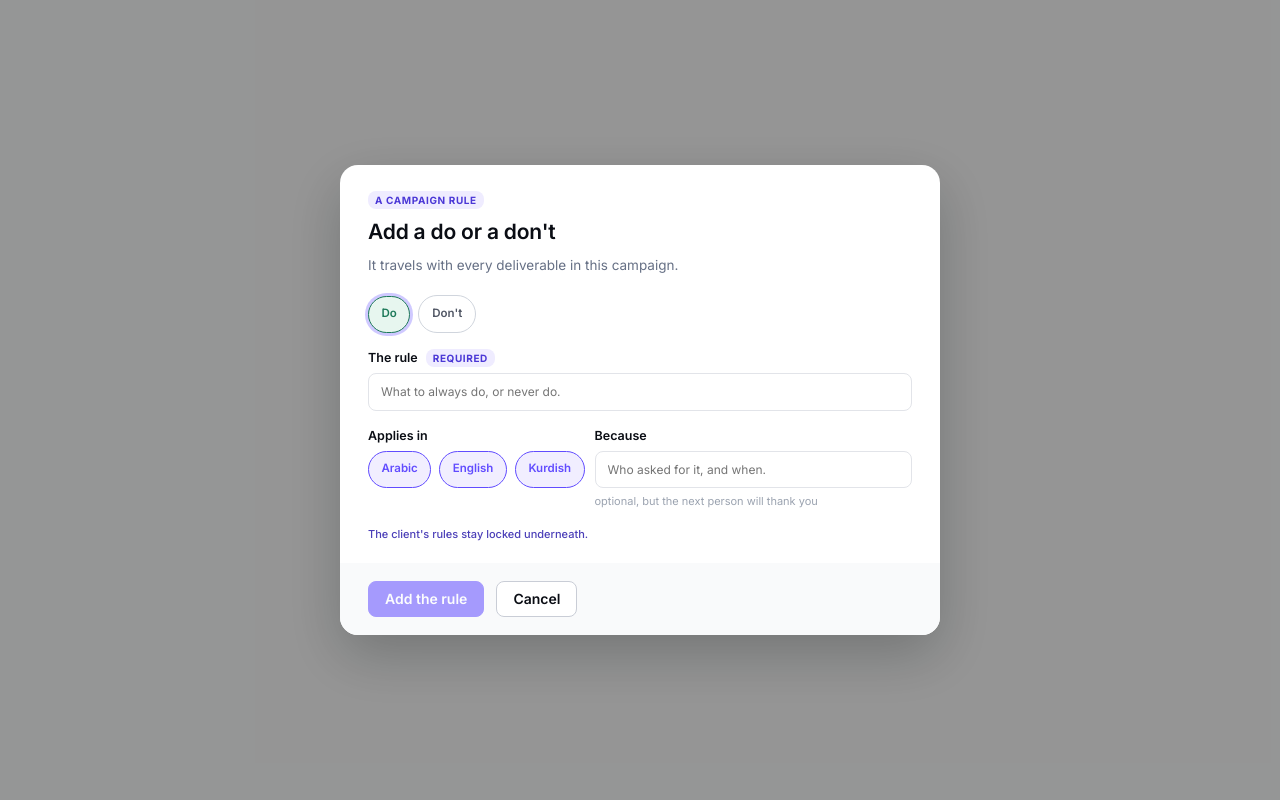
AddRuleDialog › refuses a rule that applies nowhere
Type "Tickets are earned." into the field with test id "add-rule-text" at [640, 392], box [368,374,912,411]
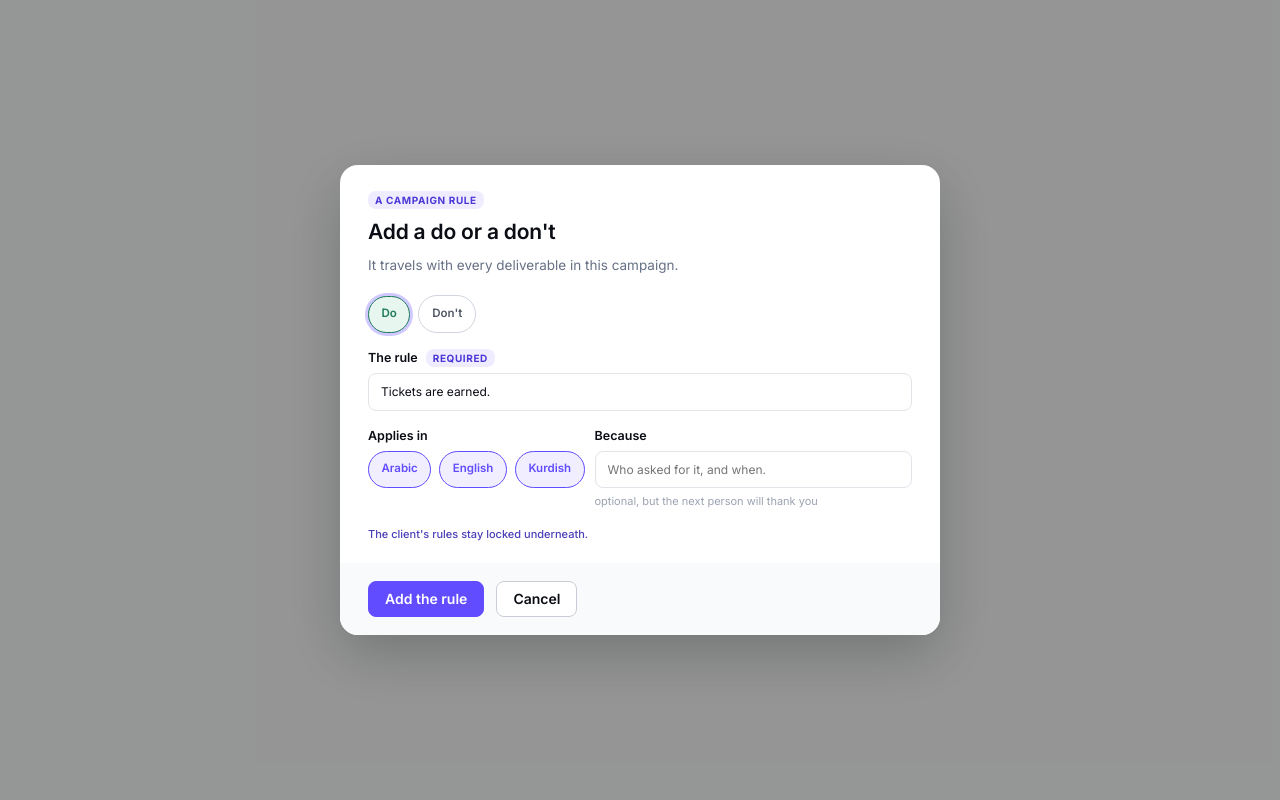
Click the button "Arabic" at [400, 470], box [368,451,431,488]
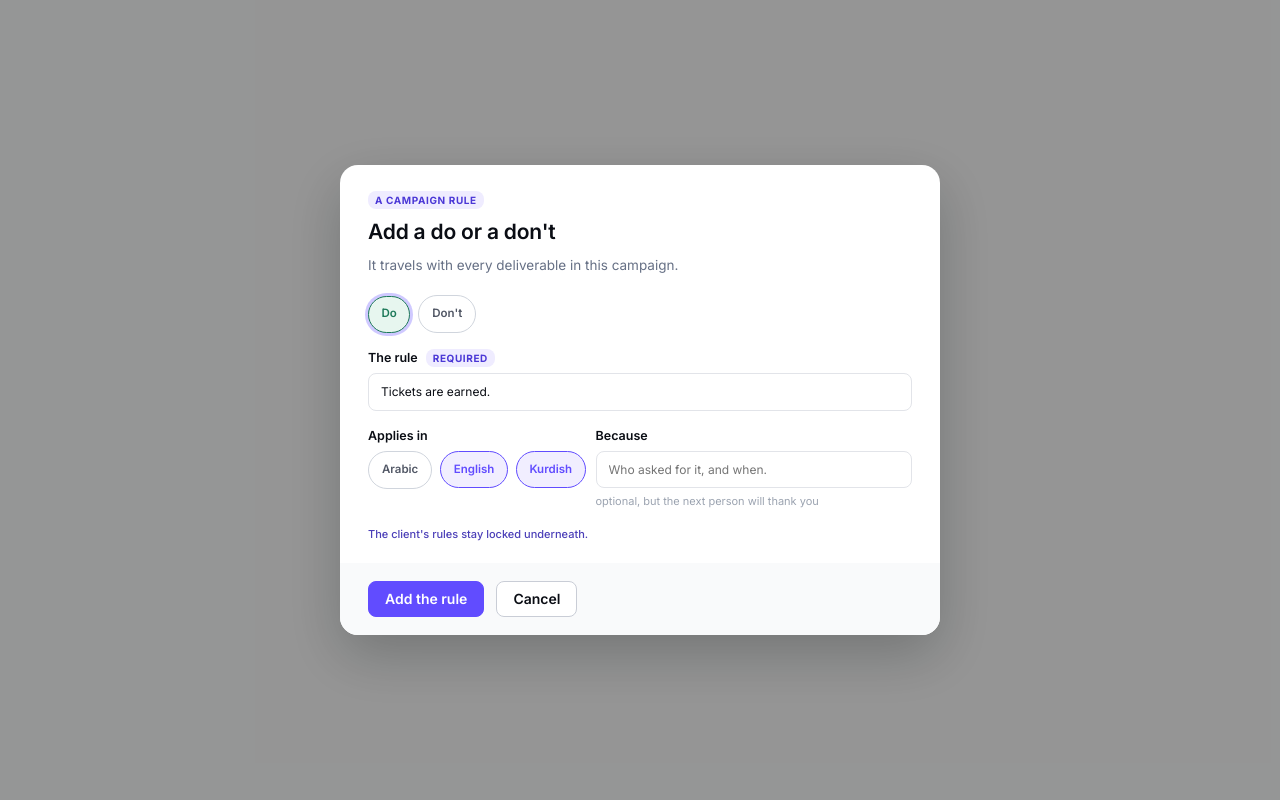
Click the button "English" at [474, 470], box [440,452,508,488]
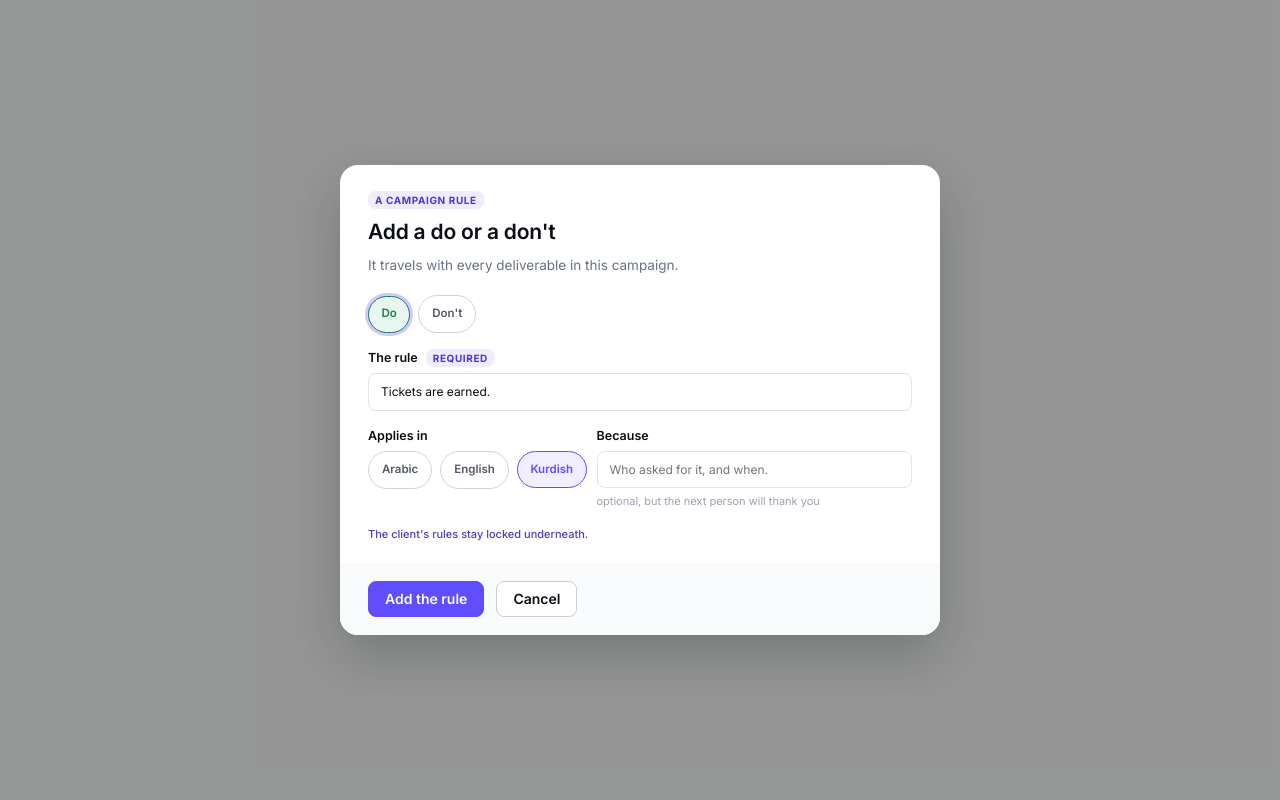
Click the button with test id "add-rule-locale-ku" at [552, 470], box [517,452,586,488]
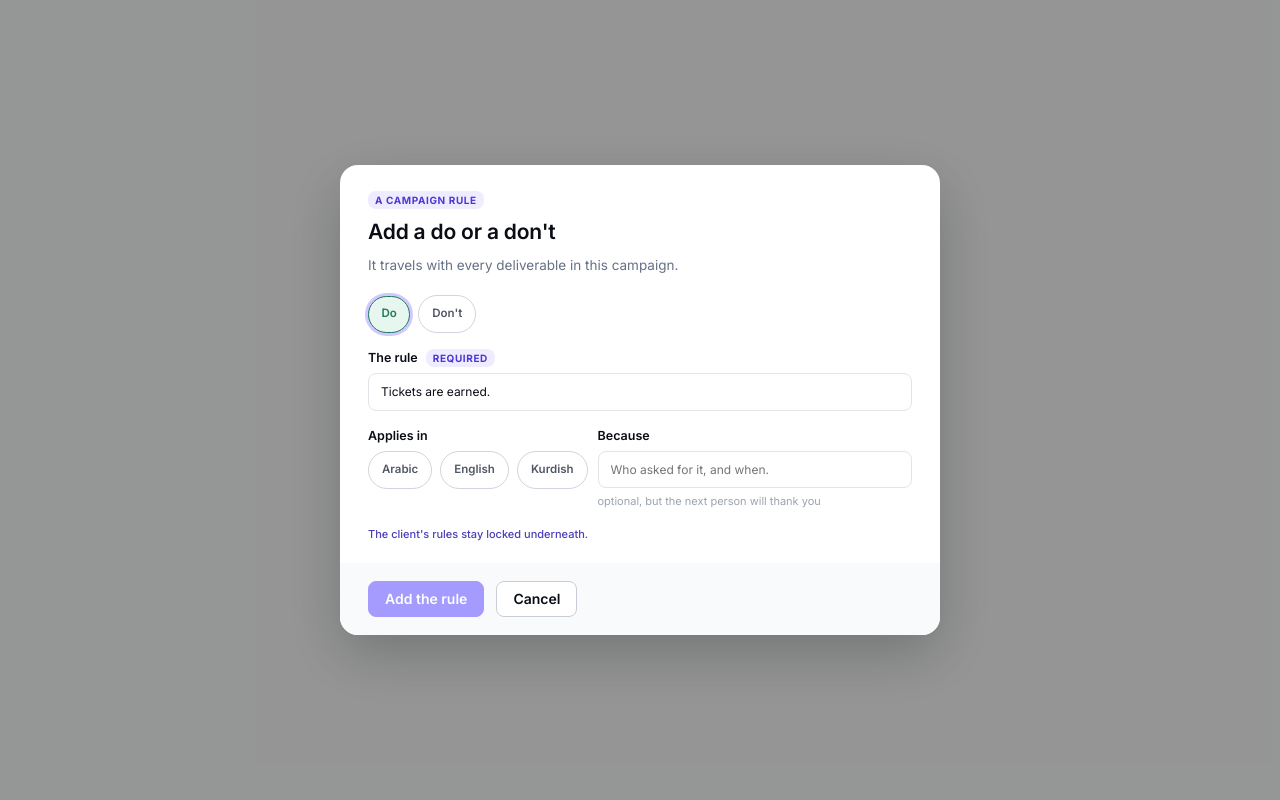
Now the button with test id "add-rule-submit" is disabled, box [368,581,484,617]
